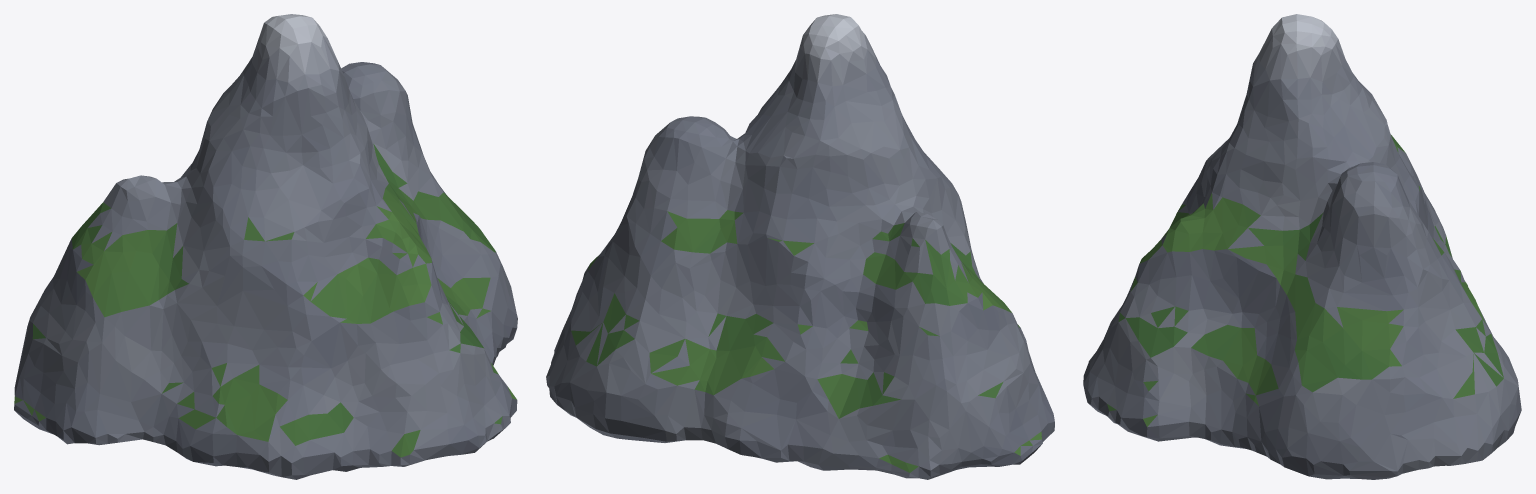
The model's file is FarPeak.glb.
3 renders of one model, left to right at view 1: azimuth 30°, elevation 25°; view 2: azimuth 150°, elevation 25°; view 3: azimuth 270°, elevation 25°, orthographic. The views are drawn at different scales.
Visible parts, largest first — view 1: Peak; view 2: Peak; view 3: Peak.
Boxes of the visible parts, x1,y1,x2,y2 form: Peak: (14, 14, 517, 479); Peak: (546, 14, 1054, 479); Peak: (1083, 14, 1521, 479).
Size of the model in its own units: 305 by 240 by 257.
